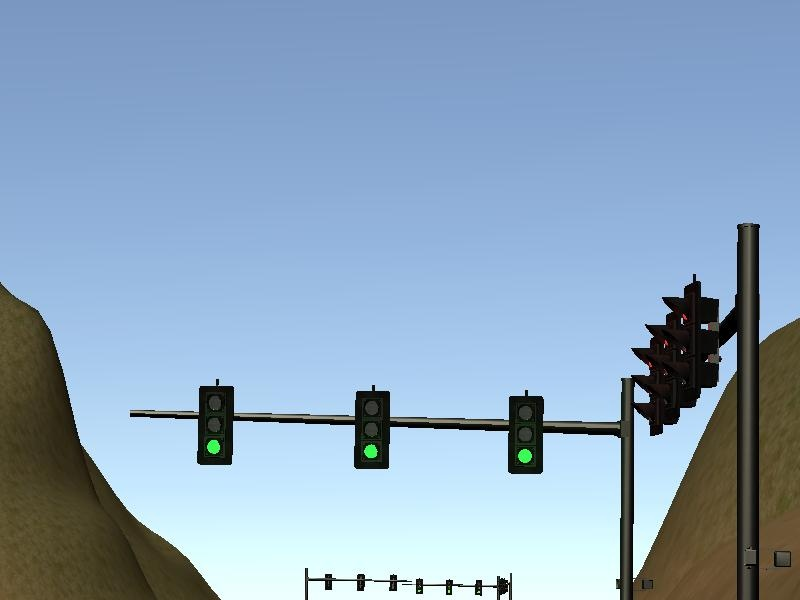GREEN: (198, 384, 233, 465), (354, 390, 389, 470), (508, 396, 542, 473)
